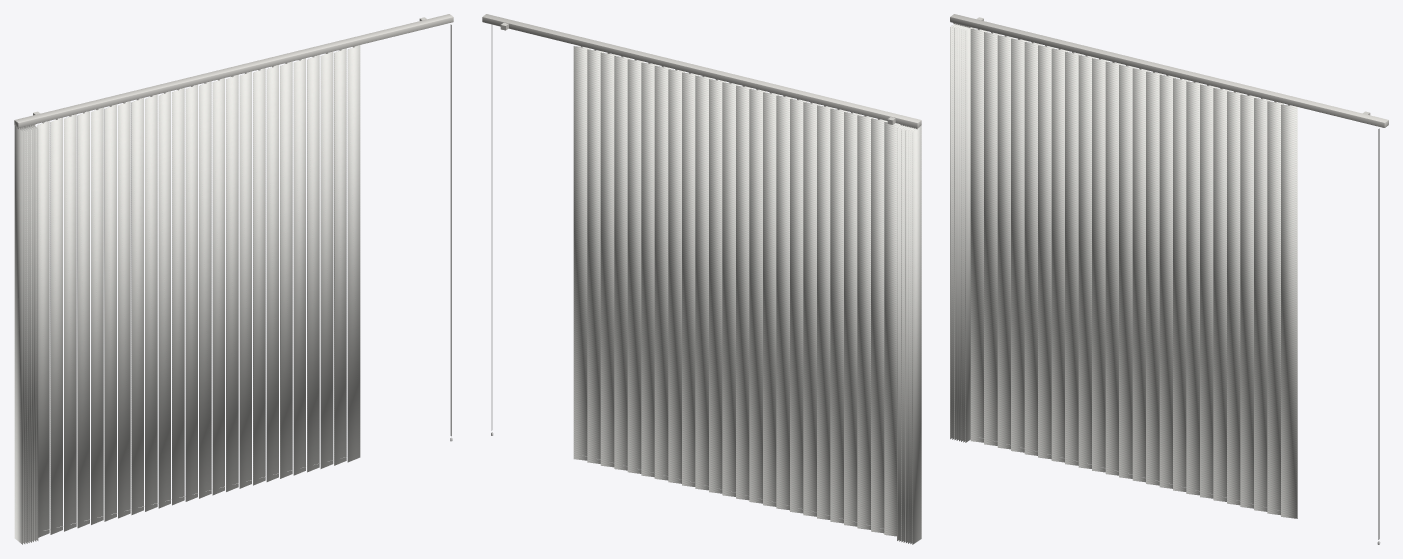
The model's file is cortina_vertical_260_c75.glb.
3 renders of one model, left to right at view 1: azimuth 30°, elevation 25°; view 2: azimuth 150°, elevation 25°; view 3: azimuth 330°, elevation 25°, orthographic.
Parts seen in each view (by area): view 1: cortina_vertical_260_c75; view 2: cortina_vertical_260_c75; view 3: cortina_vertical_260_c75.
Part boxes in pixels (left/top/right/bottom): cortina_vertical_260_c75: left=14, top=14, right=453, bottom=544; cortina_vertical_260_c75: left=482, top=14, right=921, bottom=544; cortina_vertical_260_c75: left=950, top=14, right=1388, bottom=544.
Size of the model in its own units: 2.59 by 2.4 by 0.0996.
Materials: 3 (1 with a texture image).
